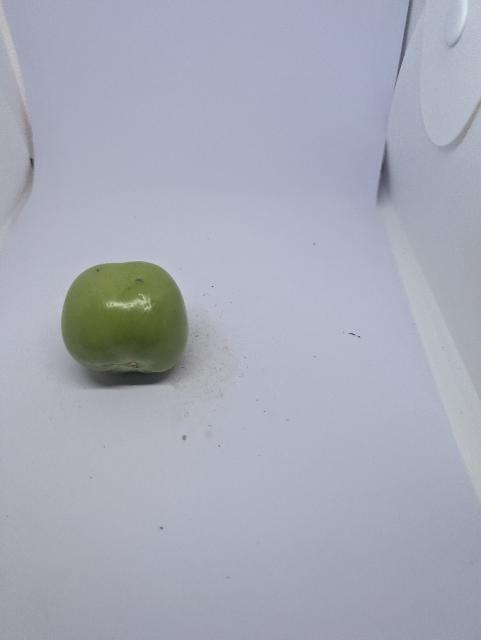green: (58, 258, 192, 379)
